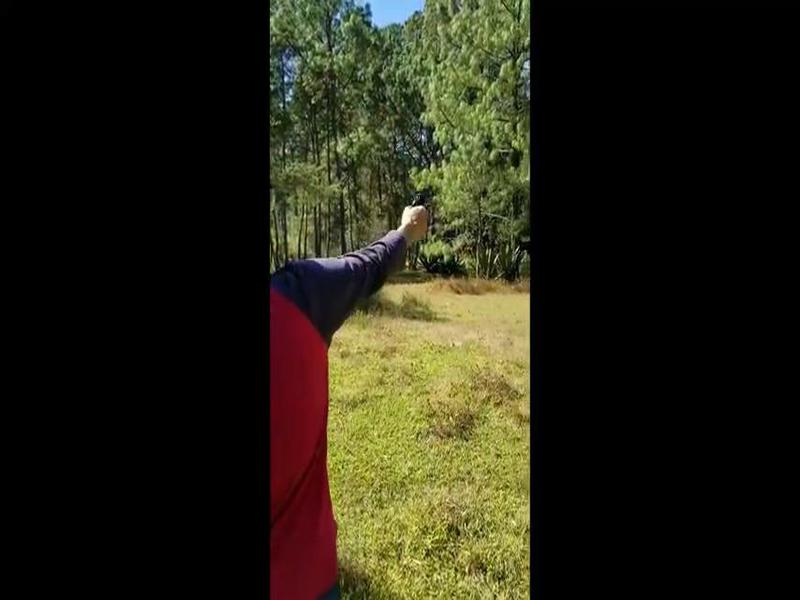Revolver: (393, 174, 460, 243)
